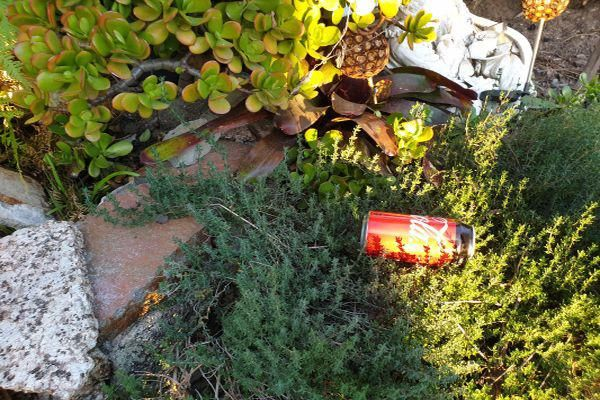Plastic Bottle: (359, 209, 475, 266)
